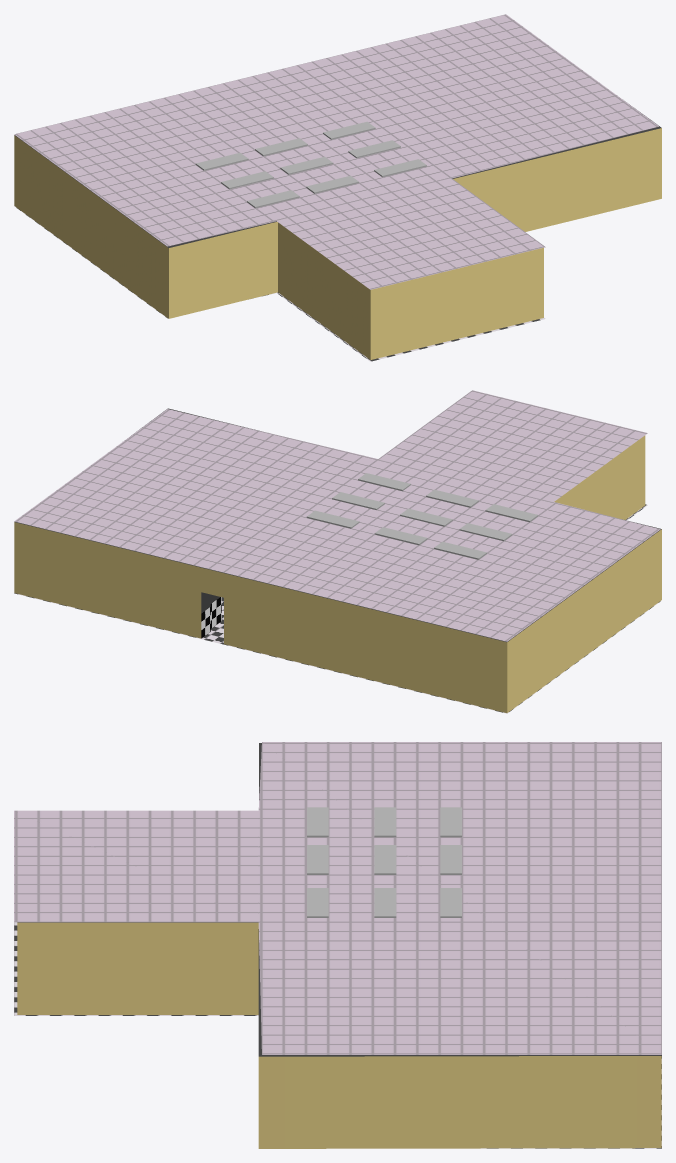
The model's file is LayoutSigma002.glb.
3 views of the same model, one above another, from view 1: azimuth 30°, elevation 25°; view 2: azimuth 150°, elevation 25°; view 3: azimuth 270°, elevation 25° (orthographic). The views are drawn at different scales.
Visible parts, largest first — view 1: Roof, Building001, Roof.001; view 2: Roof, Building001, Roof.001; view 3: Roof, Building001, Roof.001, Cube.007, Cube.001, Cube.004, Cube.006, Cube.008, Cube, Cube.002, Cube.003, Cube.005.
Part boxes in pixels (bbox=[...]): Roof: bbox=[14, 14, 658, 289]; Building001: bbox=[14, 104, 661, 359]; Roof.001: bbox=[14, 206, 545, 361]; Roof: bbox=[14, 390, 660, 641]; Building001: bbox=[14, 408, 661, 712]; Roof.001: bbox=[14, 504, 660, 713]; Roof: bbox=[14, 742, 661, 1054]; Building001: bbox=[17, 743, 661, 1148]; Roof.001: bbox=[14, 922, 661, 1148]; Cube.007: bbox=[374, 807, 396, 837]; Cube.001: bbox=[374, 888, 396, 917]; Cube.004: bbox=[374, 845, 396, 874]; Cube.006: bbox=[440, 807, 461, 837]; Cube.008: bbox=[307, 807, 328, 837]; Cube: bbox=[440, 888, 461, 917]; Cube.002: bbox=[307, 888, 328, 917]; Cube.003: bbox=[307, 845, 328, 874]; Cube.005: bbox=[440, 845, 461, 874].
Size of the model in its own units: 18.39 by 2.6 by 16.05.
15 materials, 15 textured.
